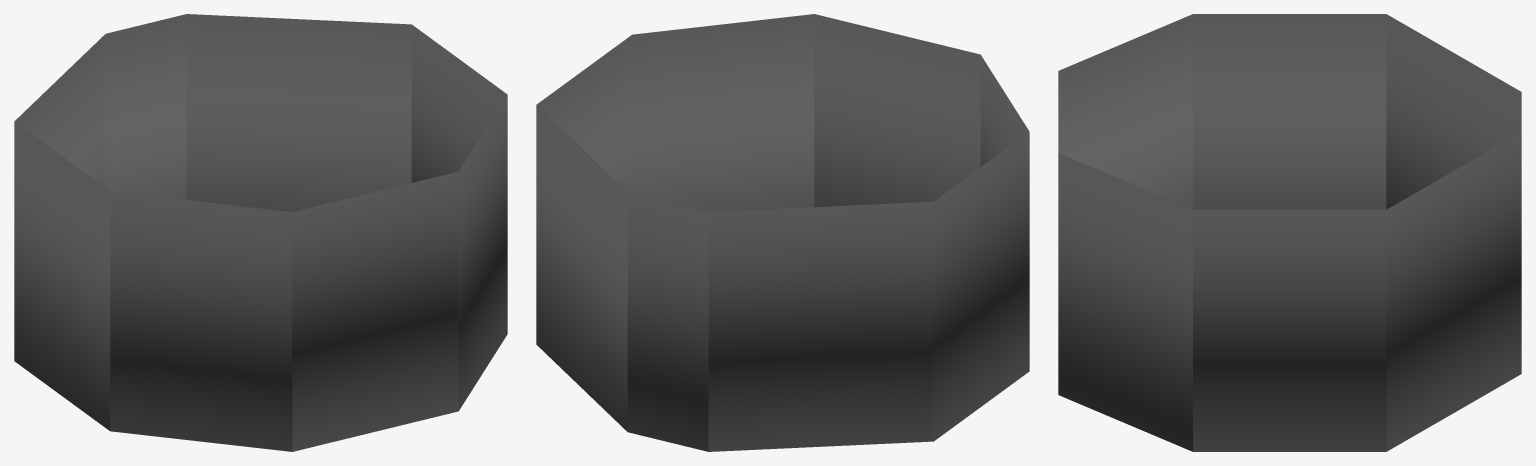
The model's file is Wall_collider.fbx.
3 renders of one model, left to right at view 1: azimuth 30°, elevation 25°; view 2: azimuth 150°, elevation 25°; view 3: azimuth 270°, elevation 25°, orthographic.
Parts seen in each view (by area): view 1: wall_collider; view 2: wall_collider; view 3: wall_collider.
Boxes of the visible parts, bbox=[...] form: wall_collider: bbox=[14, 14, 507, 451]; wall_collider: bbox=[536, 14, 1029, 451]; wall_collider: bbox=[1058, 14, 1521, 451].
Size of the model in its own units: 744 by 429 by 744.
